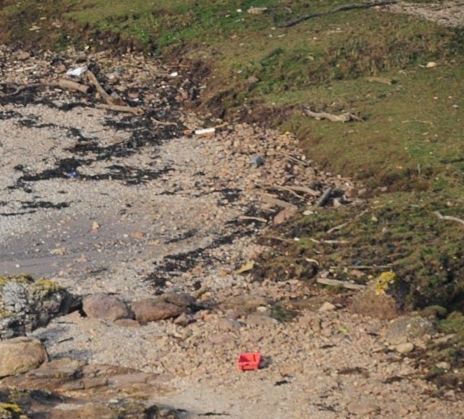together_barrel: (41, 53, 151, 117)
white_in_green: (220, 332, 282, 392), (232, 141, 281, 180)
